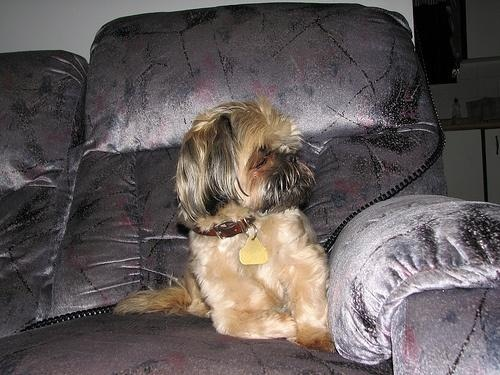dog: (118, 103, 332, 351)
sofa: (3, 2, 499, 375)
